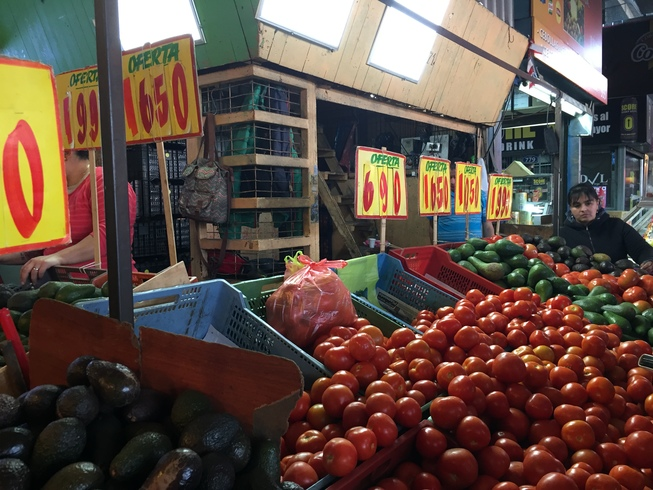precio: (1, 60, 63, 253), (119, 33, 201, 154), (55, 65, 103, 149), (360, 146, 409, 219), (419, 154, 455, 217), (457, 162, 482, 216), (489, 173, 515, 221)
